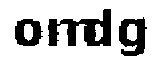d: (89, 8, 116, 49)
g: (117, 14, 150, 60)
m: (44, 18, 91, 50)
o: (12, 20, 43, 47)
